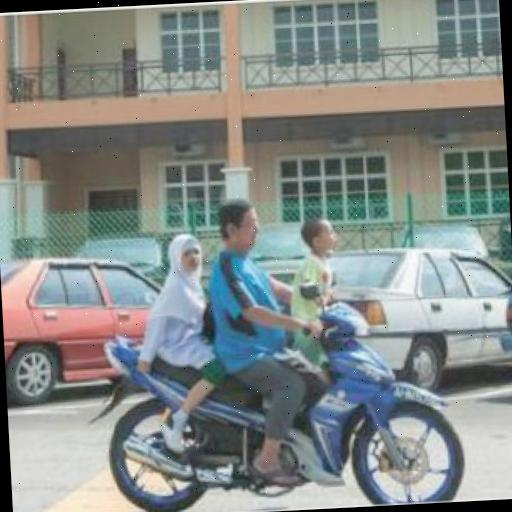no helmet: (199, 184, 318, 509)
